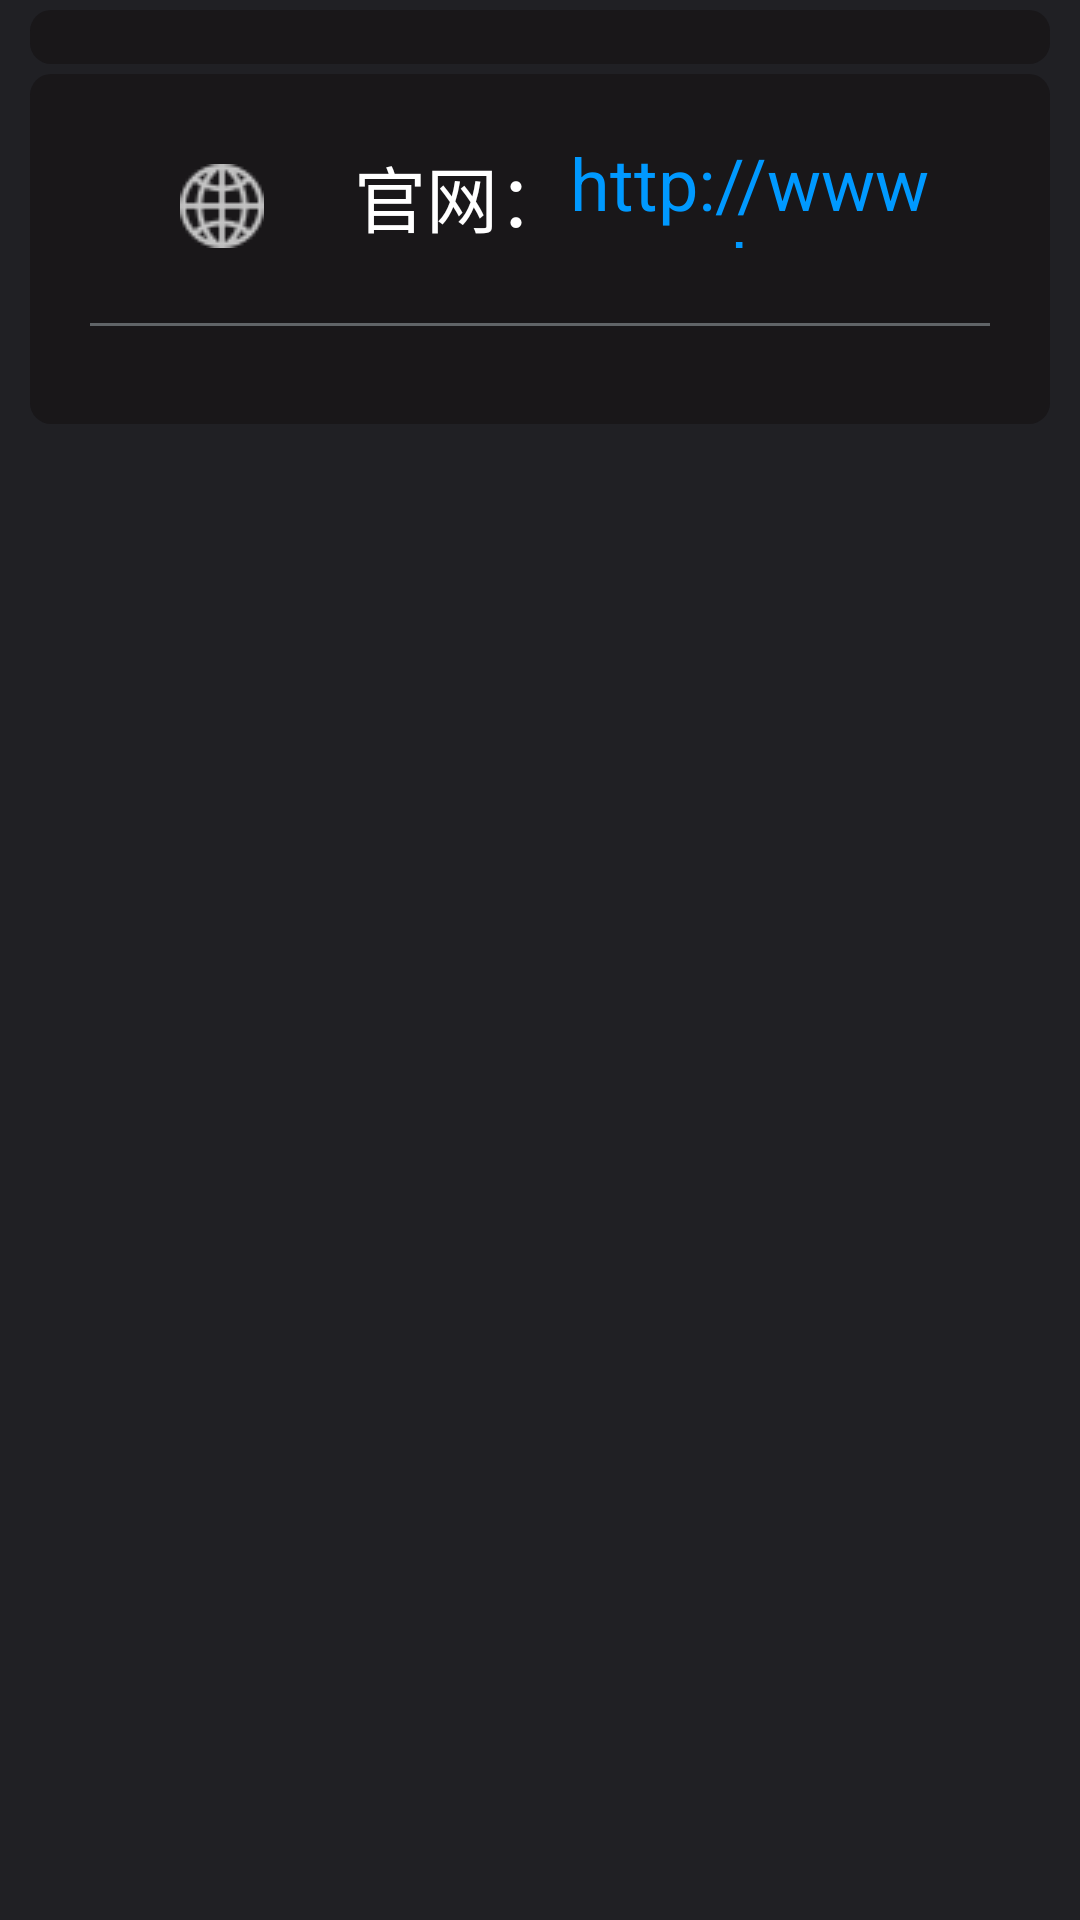

Point at icon controls on the screen. Image size 1080 × 1920, points as (x=x, y=y).
net service: (x=222, y=206)
